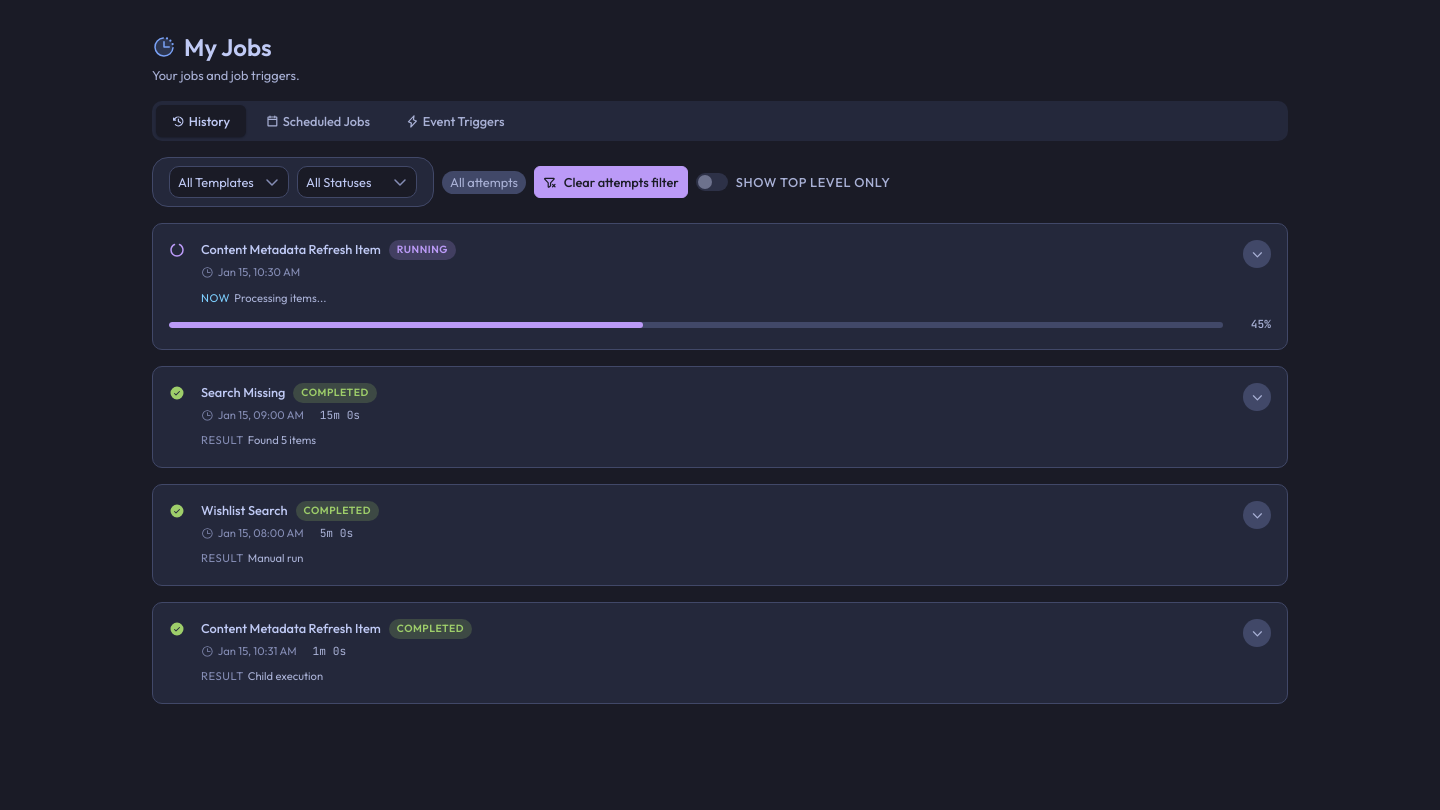
MyJobsPage attempts filter › requests only the retry family while preserving the user scope and clears it on demand
expect the text "All attempts" is shown: met, box [442, 171, 526, 194]
expect the switch named "Show top level only" is disabled: met, box [696, 173, 728, 191]
Click the button "Clear attempts filter" at (611, 182), box [534, 166, 688, 198]
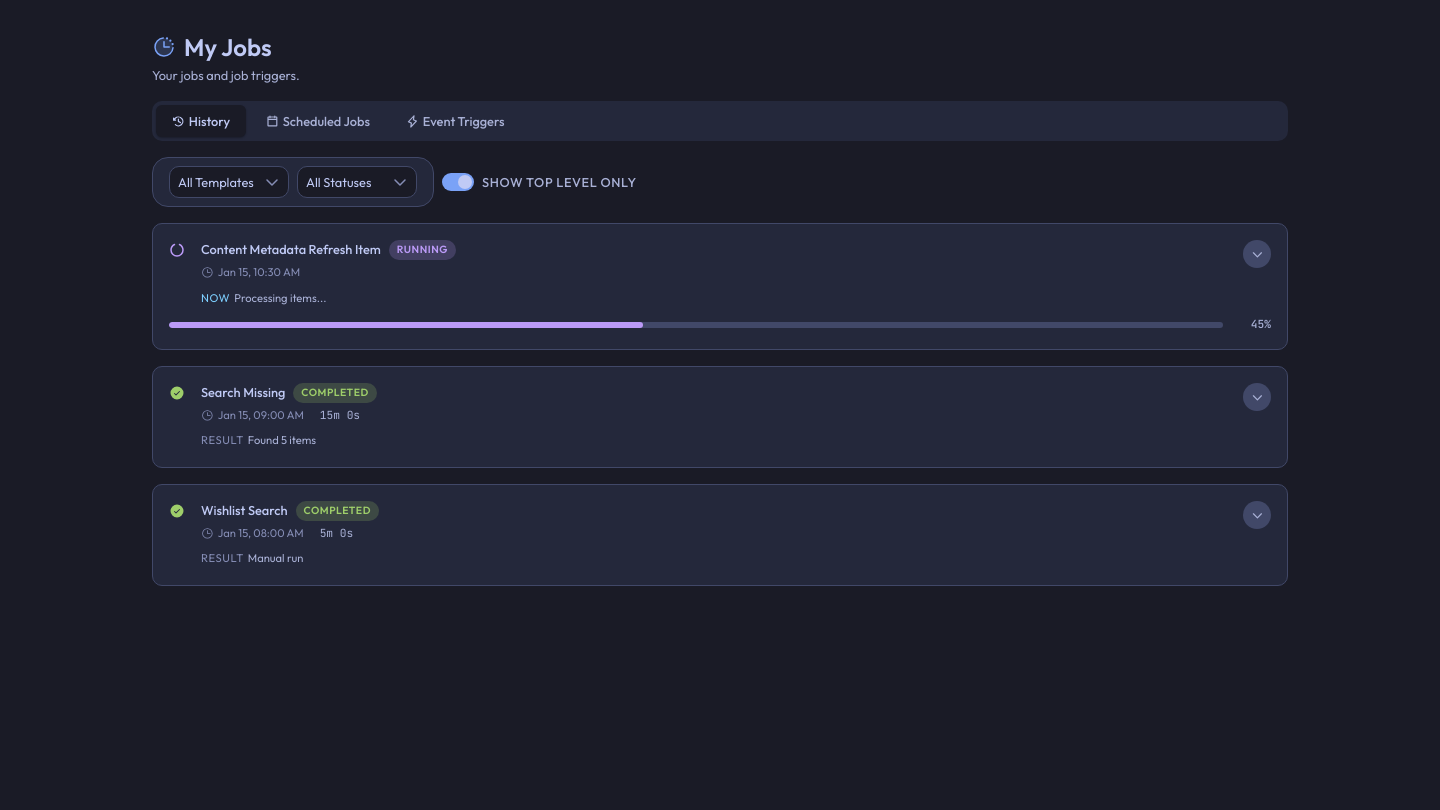
expect the text "All attempts" is gone: met
